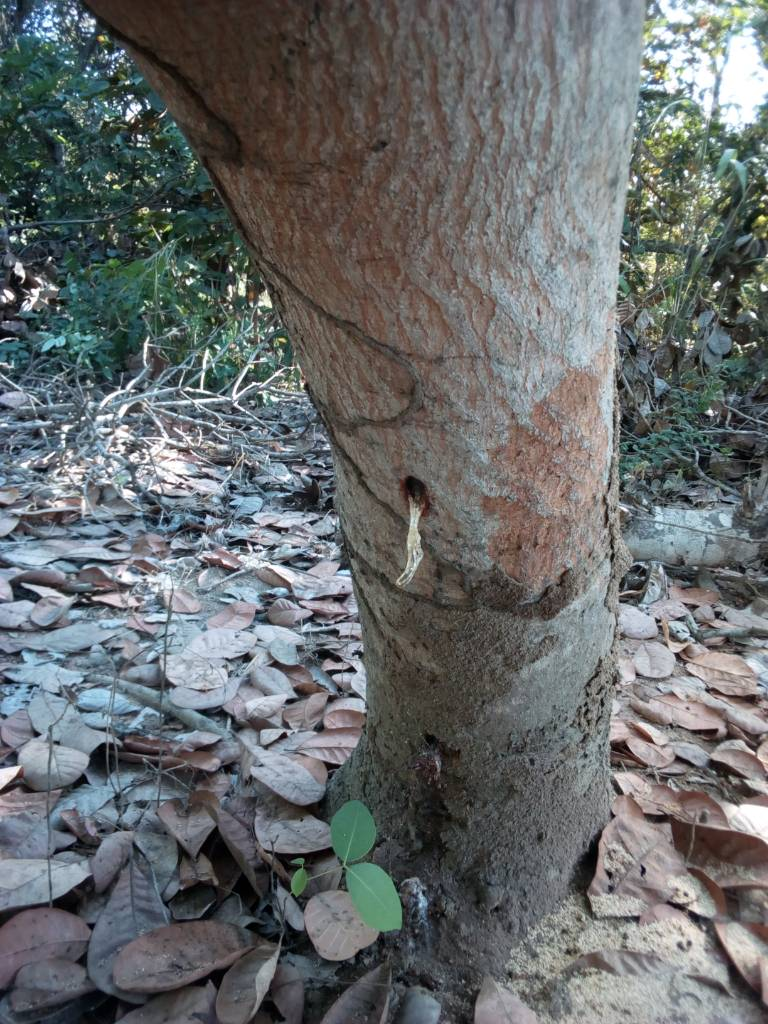Apate terebrans: (349, 450, 641, 674)
